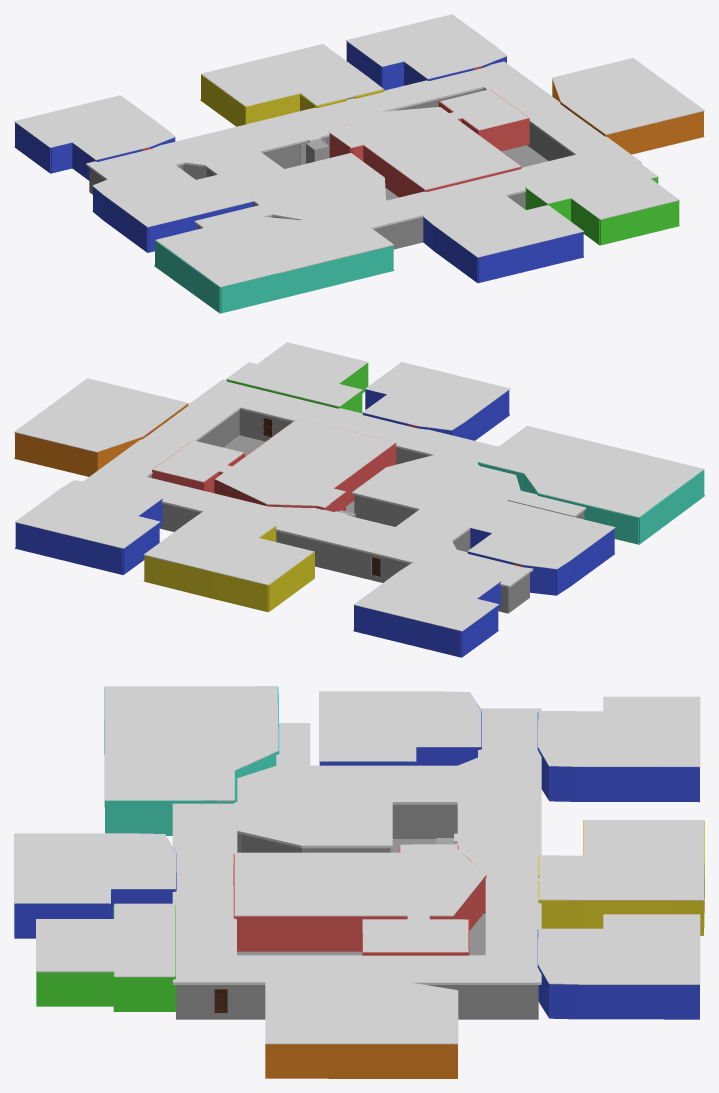
File: Greybox_MAGIC_V1.fbx
3 views of the same model, one above another, from view 1: azimuth 30°, elevation 25°; view 2: azimuth 150°, elevation 25°; view 3: azimuth 270°, elevation 25° (orthographic). The views are drawn at different scales.
Visible parts, largest first — view 1: Floor Celling, Cellings Room 1, Cellings Room 5, Cellings Room 2, Cellings Room 3, Room 5, Cellings Room 9, Cellings Room 6, Cellings Room 7, Cellings Room 8, Cellings Room 4, Floors (+8 smaller); view 2: Floor Celling, Cellings Room 1, Cellings Room 5, Floors, Cellings Room 2, Cellings Room 3, Cellings Room 7, Cellings Room 8, Cellings Room 9, Cellings Room 6, Cellings Room 4, Room 3 (+8 smaller); view 3: Floor Celling, Cellings Room 1, Cellings Room 5, Cellings Room 2, Cellings Room 3, Floors, Cellings Room 8, Cellings Room 6, Cellings Room 9, Cellings Room 7, Cellings Room 4, Room 2 (+8 smaller).
Boxes of the visible parts, x1,y1,x2,y2 form: Floor Celling: [86, 61, 641, 229]; Cellings Room 1: [329, 89, 528, 190]; Cellings Room 5: [155, 209, 393, 287]; Cellings Room 2: [552, 58, 704, 134]; Cellings Room 3: [201, 44, 383, 106]; Room 5: [154, 240, 394, 313]; Cellings Room 9: [422, 192, 583, 257]; Cellings Room 6: [92, 162, 253, 227]; Cellings Room 7: [14, 95, 175, 160]; Cellings Room 8: [346, 14, 507, 79]; Cellings Room 4: [525, 160, 679, 219]; Floors: [89, 88, 573, 249]; Floor Celling: [83, 379, 586, 587]; Cellings Room 1: [153, 418, 395, 508]; Cellings Room 5: [477, 425, 704, 517]; Floors: [148, 409, 584, 613]; Cellings Room 2: [14, 378, 188, 452]; Cellings Room 3: [143, 509, 314, 585]; Cellings Room 7: [353, 563, 501, 631]; Cellings Room 8: [15, 480, 162, 548]; Cellings Room 9: [362, 362, 510, 430]; Cellings Room 6: [467, 501, 615, 569]; Cellings Room 4: [226, 342, 368, 406]; Room 3: [143, 526, 314, 612]; Floor Celling: [172, 708, 541, 984]; Cellings Room 1: [234, 844, 486, 952]; Cellings Room 5: [104, 686, 278, 801]; Cellings Room 2: [265, 978, 458, 1044]; Cellings Room 3: [539, 820, 704, 901]; Floors: [176, 804, 538, 1019]; Cellings Room 8: [538, 914, 700, 984]; Cellings Room 6: [319, 691, 481, 761]; Cellings Room 9: [14, 833, 176, 903]; Cellings Room 7: [538, 696, 700, 767]; Cellings Room 4: [36, 903, 175, 977]; Room 2: [265, 1044, 457, 1078].
Size of the model in its own units: 13078 by 710 by 10673.
